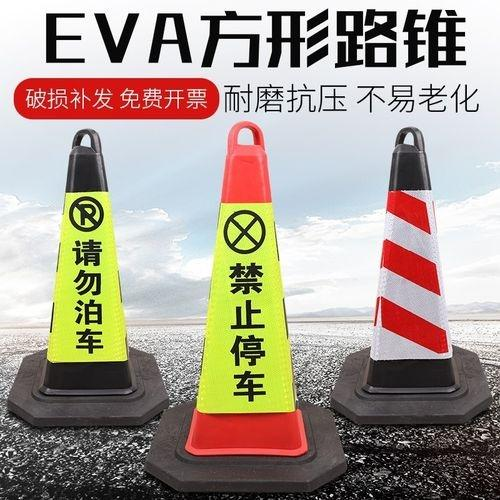cone_barrel: (168, 125, 324, 485), (338, 129, 478, 412), (22, 131, 151, 413)
